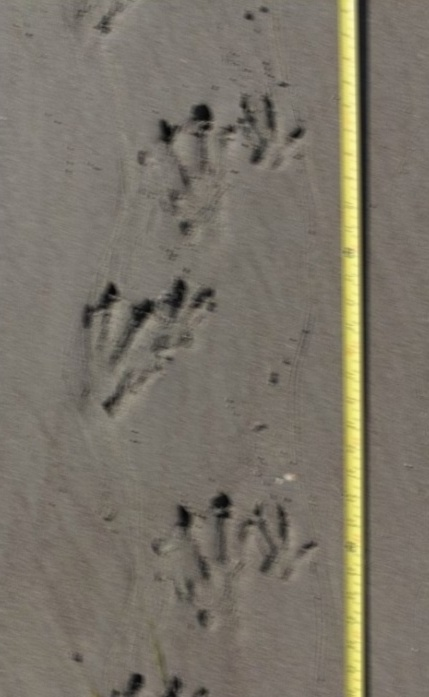beaver: (48, 265, 242, 441), (135, 95, 318, 263), (152, 484, 334, 651)
